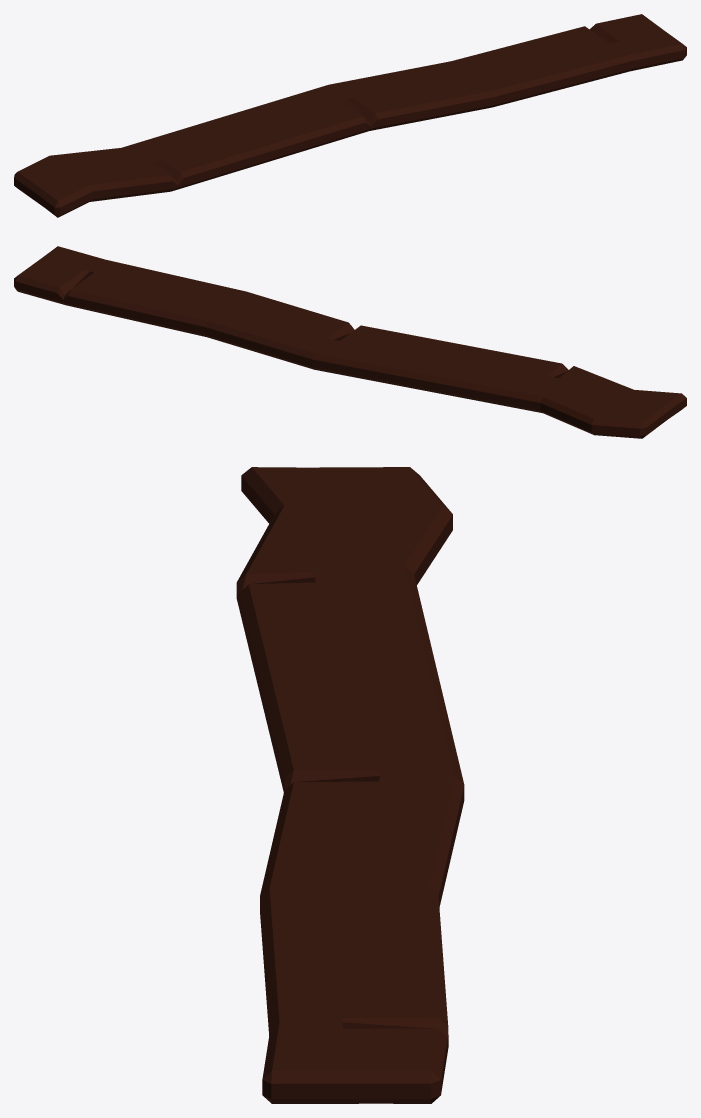
The model's file is planche_moyenne.fbx.
The picture shows the model from 3 angles, top to bottom: view 1: azimuth 30°, elevation 25°; view 2: azimuth 150°, elevation 25°; view 3: azimuth 270°, elevation 25°; orthographic projection. The views are drawn at different scales.
Parts seen in each view (by area): view 1: planche_moyenne; view 2: planche_moyenne; view 3: planche_moyenne.
Part boxes in pixels (<box>): planche_moyenne: <box>14,14,686,217</box>; planche_moyenne: <box>14,246,686,438</box>; planche_moyenne: <box>236,467,464,1103</box>.
Bounding box in the file's own units: 300 × 7.5 × 47.17.
